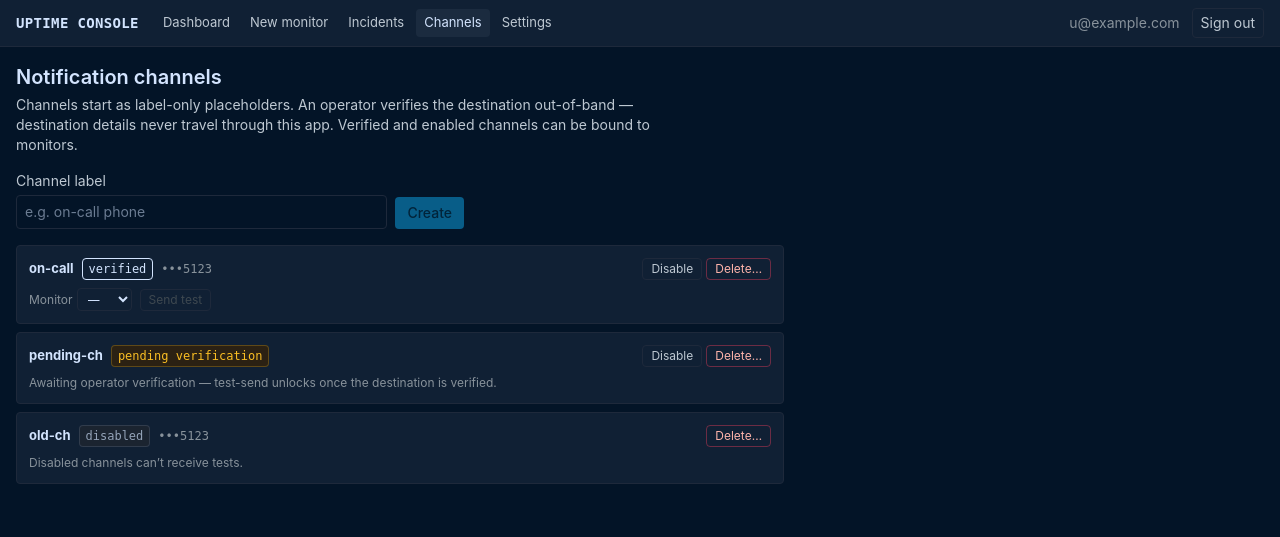
Test: channels page › create posts label only and reports allocation 409 by scope
The width and height of the screenshot is (1280, 537).
Step 1. Type "new" into the field labelled "Channel label" → (202, 212), box x1=16 y1=195 x2=387 y2=229
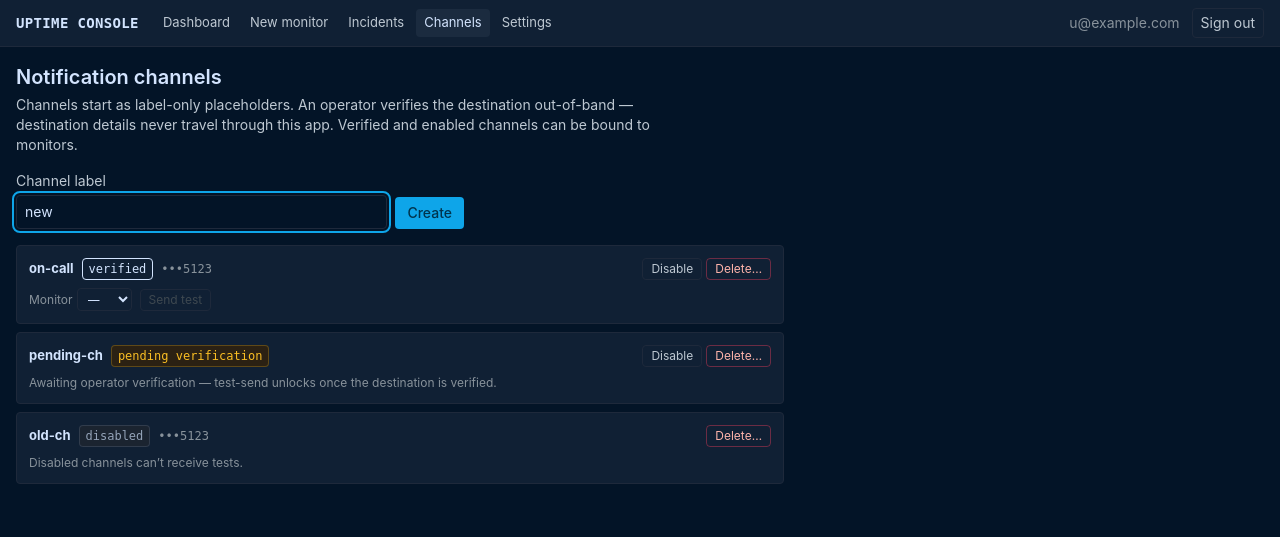
Step 2. Click the button "Create" → (430, 213), box x1=395 y1=197 x2=464 y2=229
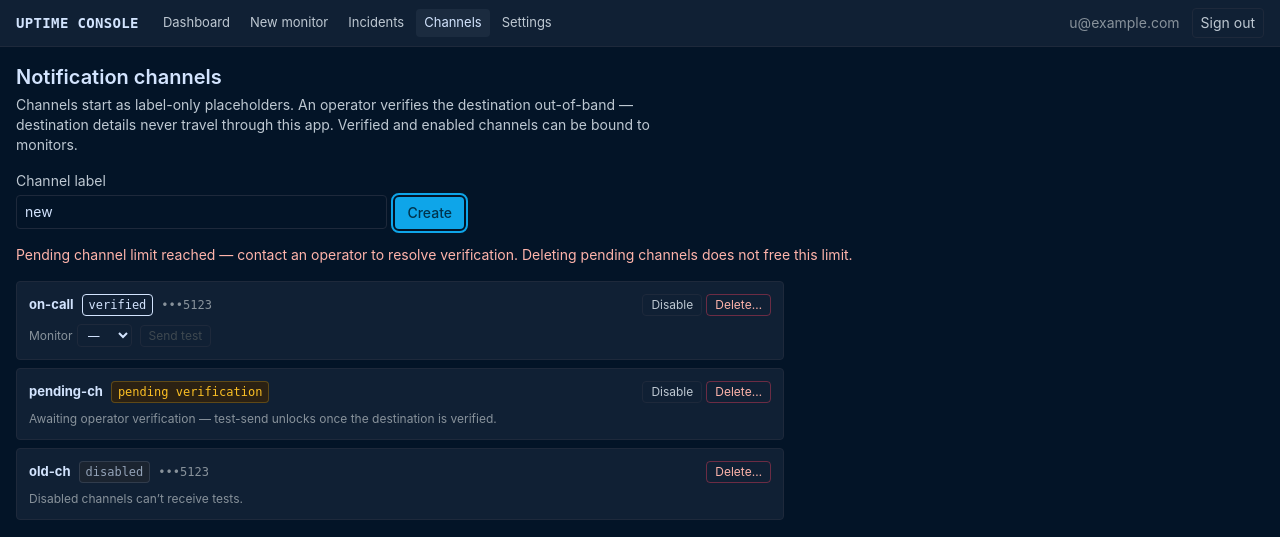
Expected: the message shows "deleting pending channels does not free this limit", x1=16 y1=246 x2=853 y2=263
